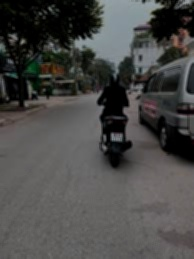Bien-so: (108, 126, 119, 137)
